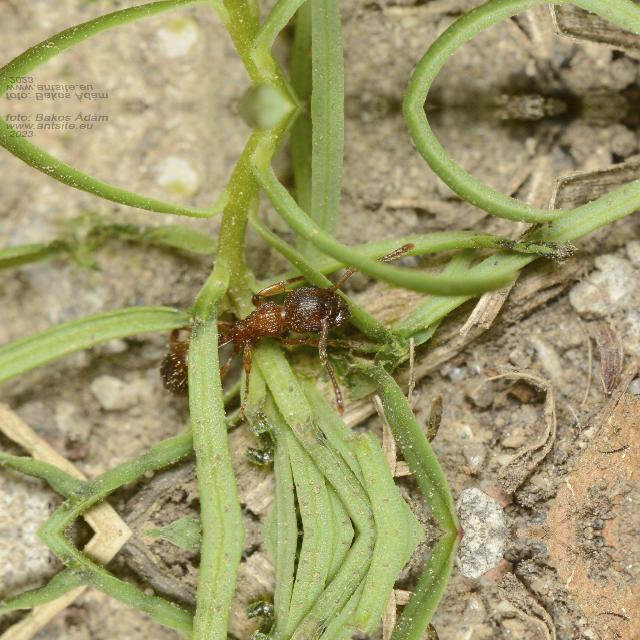Myrmica: (137, 252, 377, 403)
